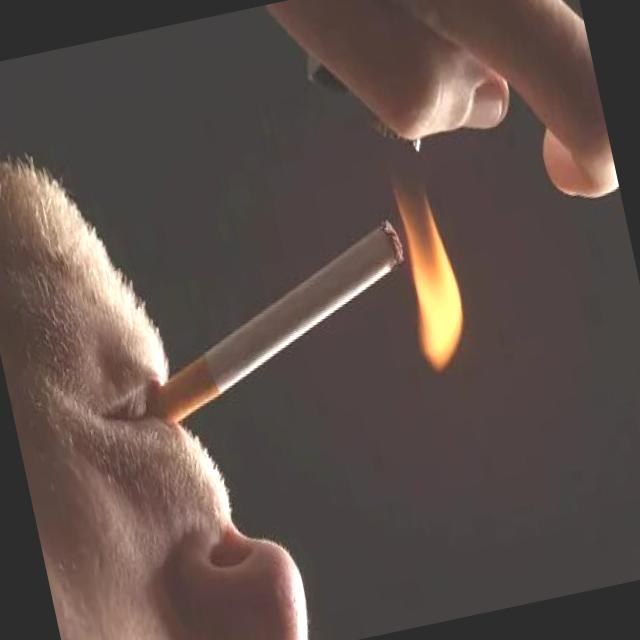cigarette: (126, 208, 435, 430)
